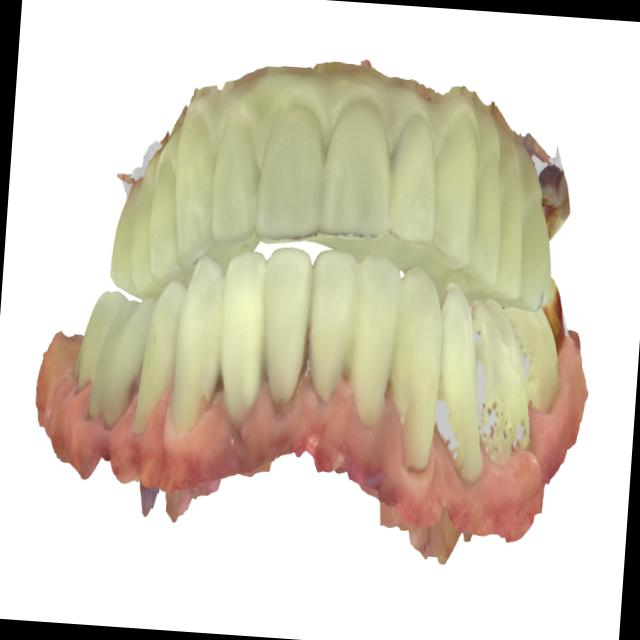tooth: (377, 242, 454, 484), (314, 62, 404, 258), (246, 64, 338, 255), (423, 276, 500, 496), (456, 284, 546, 470), (373, 74, 451, 264), (165, 246, 236, 450), (208, 242, 282, 437), (336, 229, 405, 436), (420, 83, 492, 280), (200, 79, 274, 257), (499, 130, 566, 322), (250, 235, 319, 415), (456, 95, 515, 304), (165, 95, 230, 276), (481, 112, 538, 316), (297, 234, 359, 414), (491, 295, 568, 425), (131, 273, 185, 445), (122, 138, 175, 301), (86, 290, 145, 436), (141, 123, 190, 287), (70, 279, 117, 400), (104, 167, 146, 300), (531, 268, 576, 359), (534, 163, 573, 248)
